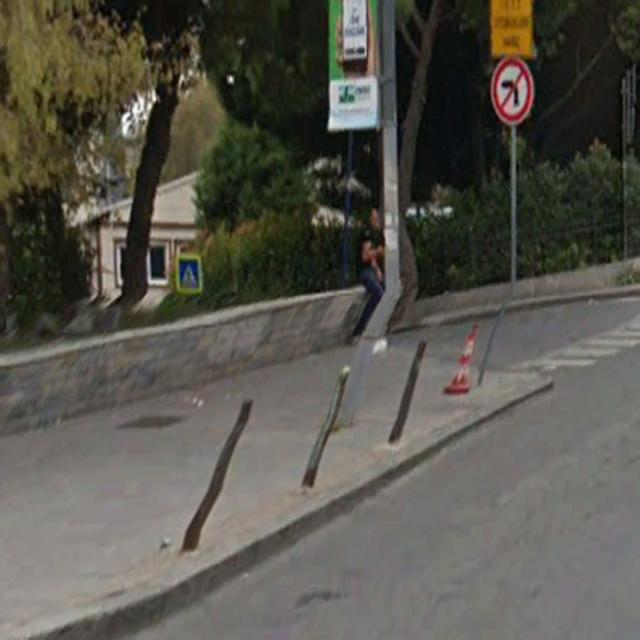soladonulmez: (490, 58, 534, 124)
